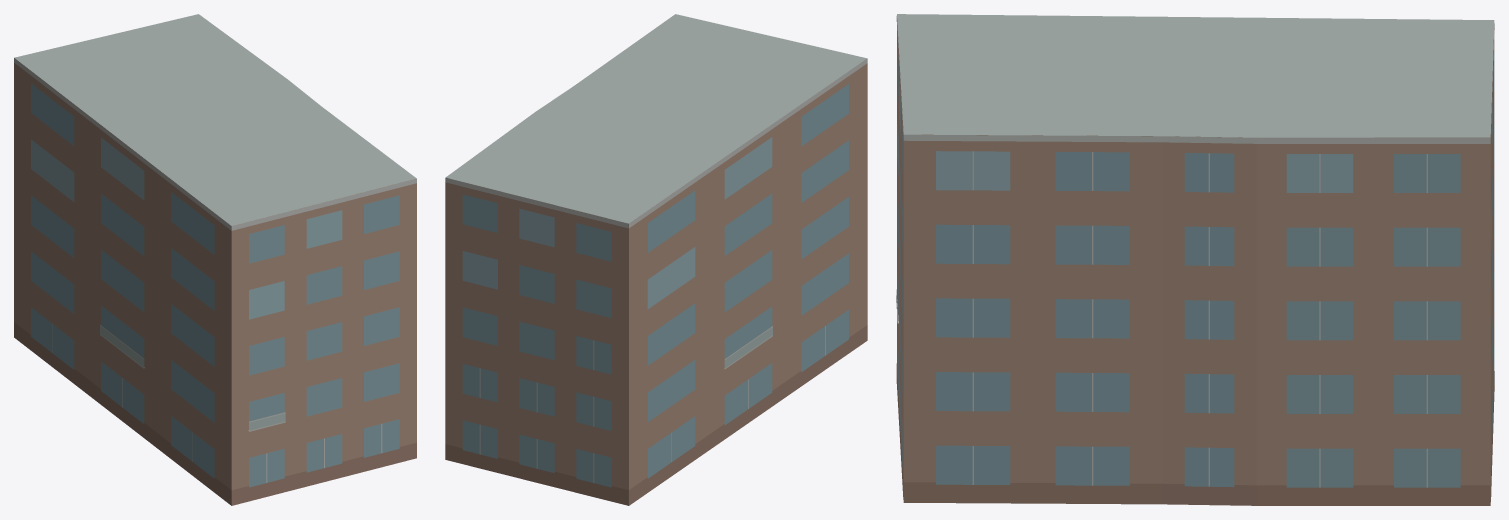
File: survey-upis-33015972.glb
3 views of the same model, side by side, from view 1: azimuth 30°, elevation 25°; view 2: azimuth 150°, elevation 25°; view 3: azimuth 270°, elevation 25° (orthographic). The views are drawn at different scales.
Visible parts, largest first — view 1: survey-upis-33015972.tmp; view 2: survey-upis-33015972.tmp; view 3: survey-upis-33015972.tmp.
Boxes of the visible parts, left/top/right/bottom form: survey-upis-33015972.tmp: left=14, top=14, right=416, bottom=505; survey-upis-33015972.tmp: left=445, top=14, right=867, bottom=505; survey-upis-33015972.tmp: left=896, top=14, right=1494, bottom=505.
Bounding box in the file's own units: 10.47 × 14.5 × 21.35.
